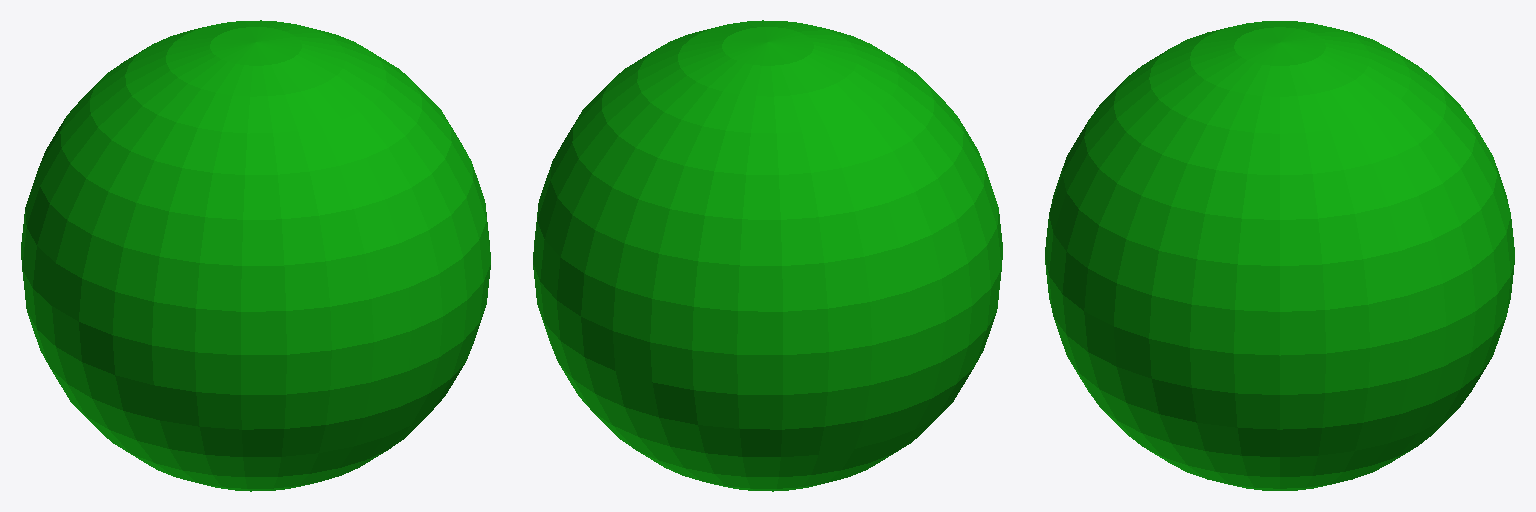
URDF robot description (ball):
<?xml version="1.0"?>
<robot name="ball">
  <link name="ball_base_link">
    <contact>
      <lateral_friction value="1.0"/>
      <spinning_friction value=".001"/>
      <!-- <spinning_friction value="10000"/>
      <lateral_friction value="10000"/>
      <mu value="10000000"/> 
      <kp value="10000000"/>
      <kd value="10000000"/> -->
    </contact>
    <inertial>
      <origin rpy="0 0 0" xyz="0 0 0"/>
      <mass value="0.01"/>
      <inertia ixx="1" ixy="0" ixz="0" iyy="1" iyz="0" izz="1"/>
    </inertial>
    <visual>
      <origin rpy="0 0 0" xyz="0.0 0.0 0.0"/>
      <geometry>
        <sphere radius="0.015"/>
      </geometry>
      <material name="blockmat">
        <color rgba="0.1 0.7 0.1 1"/>
      </material>
    </visual>
    <collision>
      <origin rpy="0 0 0" xyz="0.0 0.0 0.0"/>
      <geometry>
        <sphere radius="0.015"/>
        <!-- <box size="0.03 0.03 0.03"/> -->
      </geometry>
    </collision>
  </link>
</robot>

--- Render facts (derived) ---
3 views of the same robot in one strip: view 1: azimuth 30°, elevation 25°; view 2: azimuth 150°, elevation 25°; view 3: azimuth 270°, elevation 25° (orthographic).
Robot: ball — 1 links, 0 joints (none); root link ball_base_link; default pose: every joint at zero.
Links seen in each view (by area): view 1: ball_base_link; view 2: ball_base_link; view 3: ball_base_link.
Link boxes in pixels (left/top/right/bottom): ball_base_link: left=21, top=20, right=490, bottom=491; ball_base_link: left=533, top=20, right=1002, bottom=491; ball_base_link: left=1045, top=21, right=1514, bottom=490.
Size in the robot's own frame: 0.03 by 0.03 by 0.03 metres.
Geometry: primitives only (box / cylinder / sphere), no mesh files.